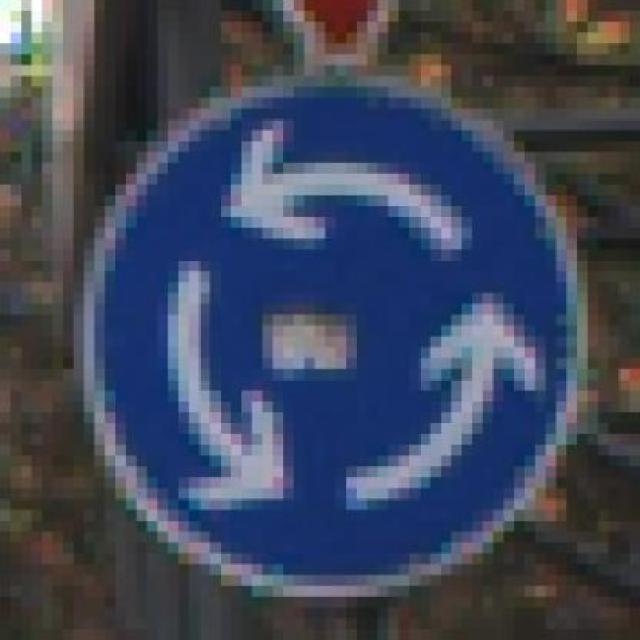Round-About: (52, 54, 630, 629)
